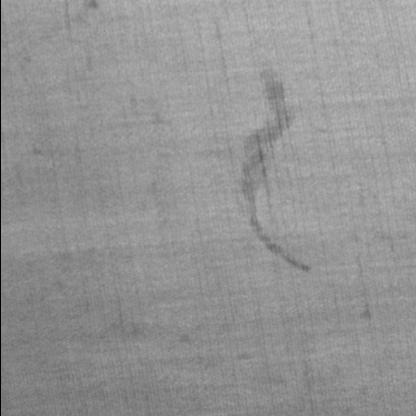oil spot: (237, 68, 318, 273)
